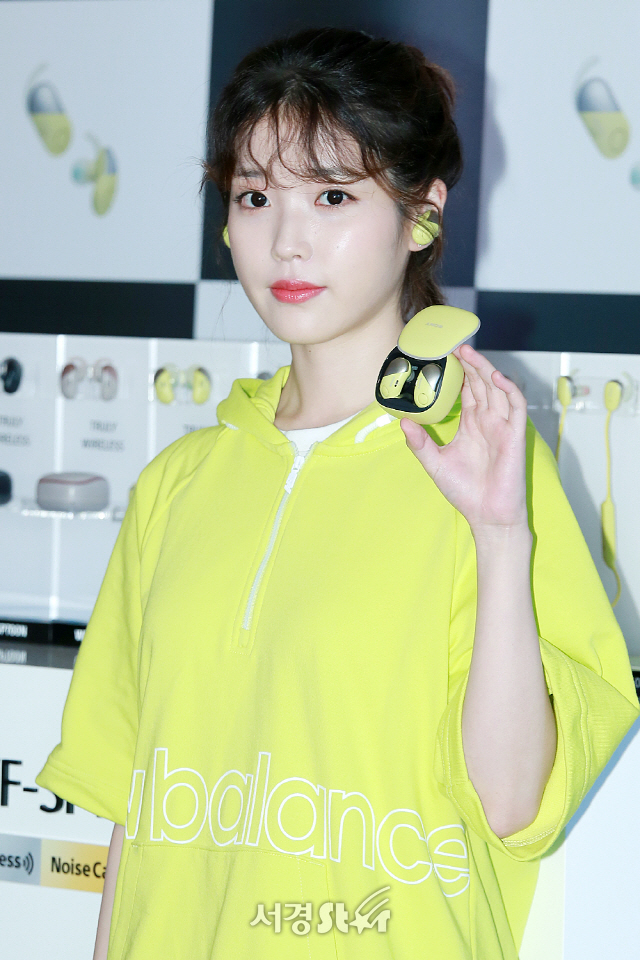earphone: (406, 178, 447, 252)
